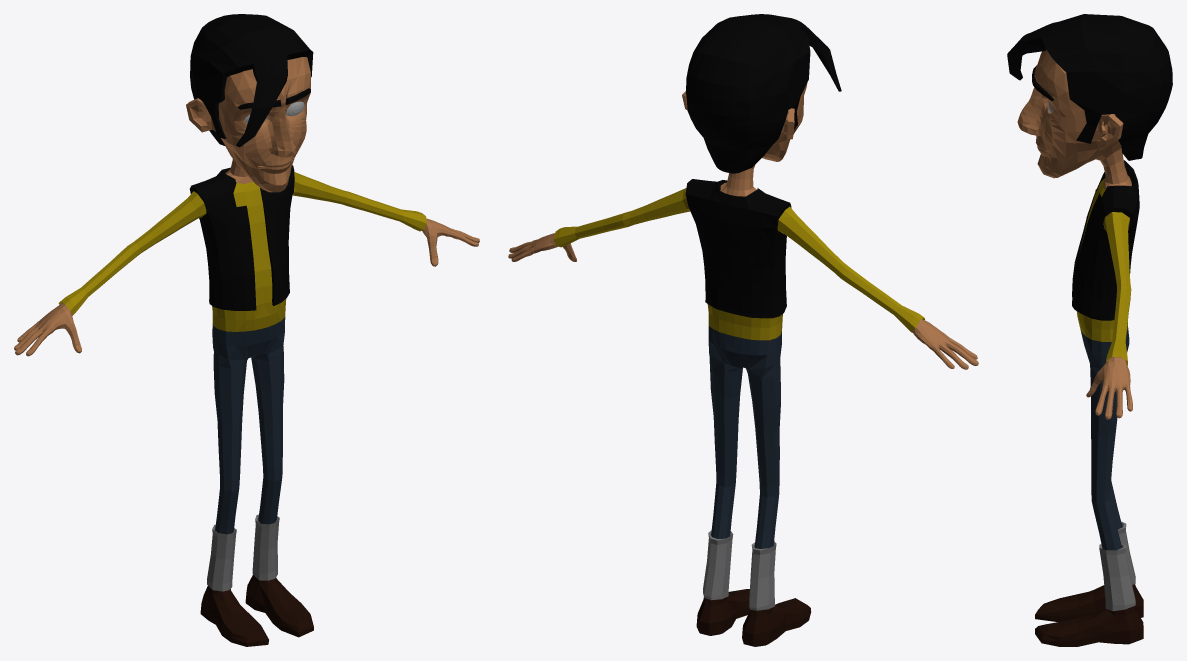
The model's file is toon_boy.obj.
3 views of the same model, side by side, from view 1: azimuth 30°, elevation 25°; view 2: azimuth 150°, elevation 25°; view 3: azimuth 270°, elevation 25° (orthographic).
Visible parts, largest first — view 1: toon_boy_toon_boy_skin, toon_boy_toon_boy_JEANS, toon_boy_toon_boy_Hair, toon_boy_toon_boy_Shirt, toon_boy_toon_boy_JAKE, toon_boy_toon_boy_zappas, toon_boy_toon_boy_botamanga; view 2: toon_boy_toon_boy_Hair, toon_boy_toon_boy_JAKE, toon_boy_toon_boy_JEANS, toon_boy_toon_boy_Shirt, toon_boy_toon_boy_skin, toon_boy_toon_boy_zappas, toon_boy_toon_boy_botamanga; view 3: toon_boy_toon_boy_Hair, toon_boy_toon_boy_skin, toon_boy_toon_boy_JAKE, toon_boy_toon_boy_zappas, toon_boy_toon_boy_JEANS, toon_boy_toon_boy_Shirt, toon_boy_toon_boy_botamanga.
Boxes of the visible parts, x1=… form: toon_boy_toon_boy_skin: x1=14, y1=57, x2=479, y2=356; toon_boy_toon_boy_JEANS: x1=212, y1=317, x2=285, y2=534; toon_boy_toon_boy_Hair: x1=190, y1=14, x2=313, y2=147; toon_boy_toon_boy_Shirt: x1=58, y1=172, x2=426, y2=331; toon_boy_toon_boy_JAKE: x1=189, y1=165, x2=294, y2=310; toon_boy_toon_boy_zappas: x1=200, y1=575, x2=313, y2=646; toon_boy_toon_boy_botamanga: x1=207, y1=514, x2=279, y2=591; toon_boy_toon_boy_Hair: x1=686, y1=14, x2=841, y2=173; toon_boy_toon_boy_JAKE: x1=685, y1=179, x2=791, y2=646; toon_boy_toon_boy_JEANS: x1=708, y1=326, x2=781, y2=548; toon_boy_toon_boy_Shirt: x1=553, y1=188, x2=924, y2=340; toon_boy_toon_boy_skin: x1=508, y1=83, x2=978, y2=369; toon_boy_toon_boy_zappas: x1=696, y1=589, x2=811, y2=646; toon_boy_toon_boy_botamanga: x1=703, y1=530, x2=776, y2=610; toon_boy_toon_boy_Hair: x1=1007, y1=14, x2=1172, y2=160; toon_boy_toon_boy_skin: x1=1017, y1=49, x2=1132, y2=419; toon_boy_toon_boy_JAKE: x1=1072, y1=160, x2=1139, y2=644; toon_boy_toon_boy_zappas: x1=1035, y1=584, x2=1143, y2=646; toon_boy_toon_boy_JEANS: x1=1080, y1=326, x2=1129, y2=550; toon_boy_toon_boy_Shirt: x1=1076, y1=178, x2=1131, y2=365; toon_boy_toon_boy_botamanga: x1=1099, y1=521, x2=1135, y2=611.
Bounding box in the file's own units: 1.84 × 2.25 × 0.5585.
